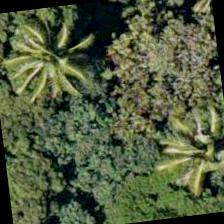Kelapa_Sawit: (0, 16, 93, 117), (156, 106, 223, 205)
